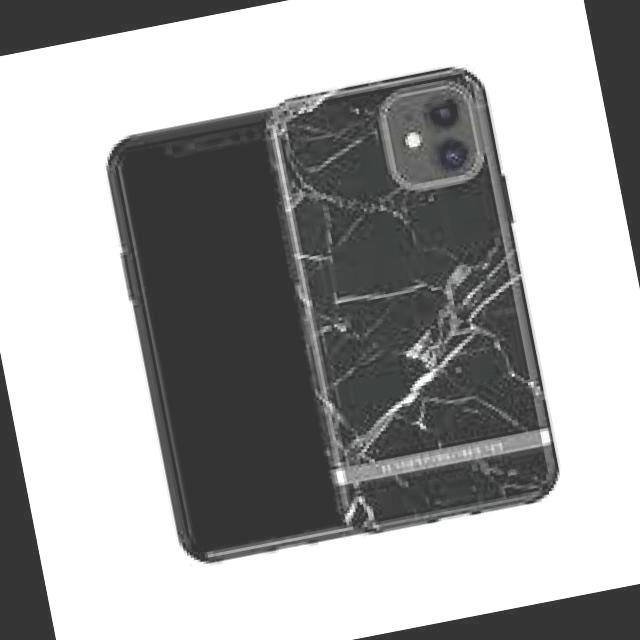lens: (378, 86, 477, 184)
phone: (273, 56, 565, 538), (95, 103, 352, 569)
